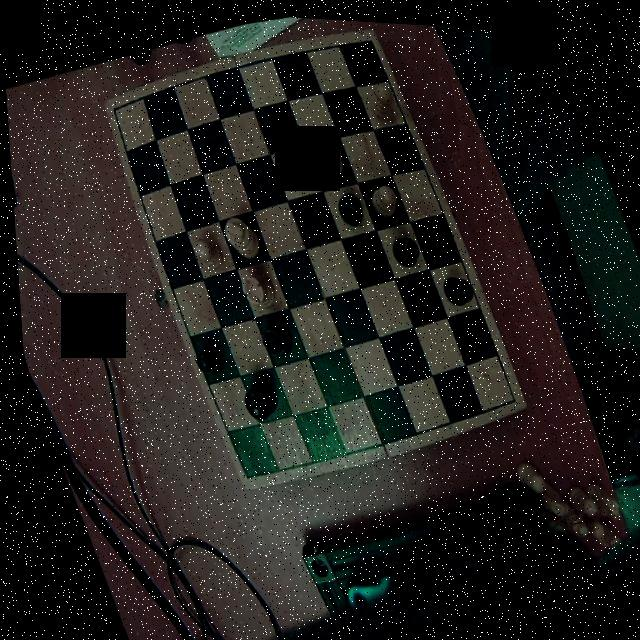chess-table-corners: (228, 454, 258, 486), (492, 379, 520, 409), (358, 22, 384, 54), (104, 92, 128, 120)
